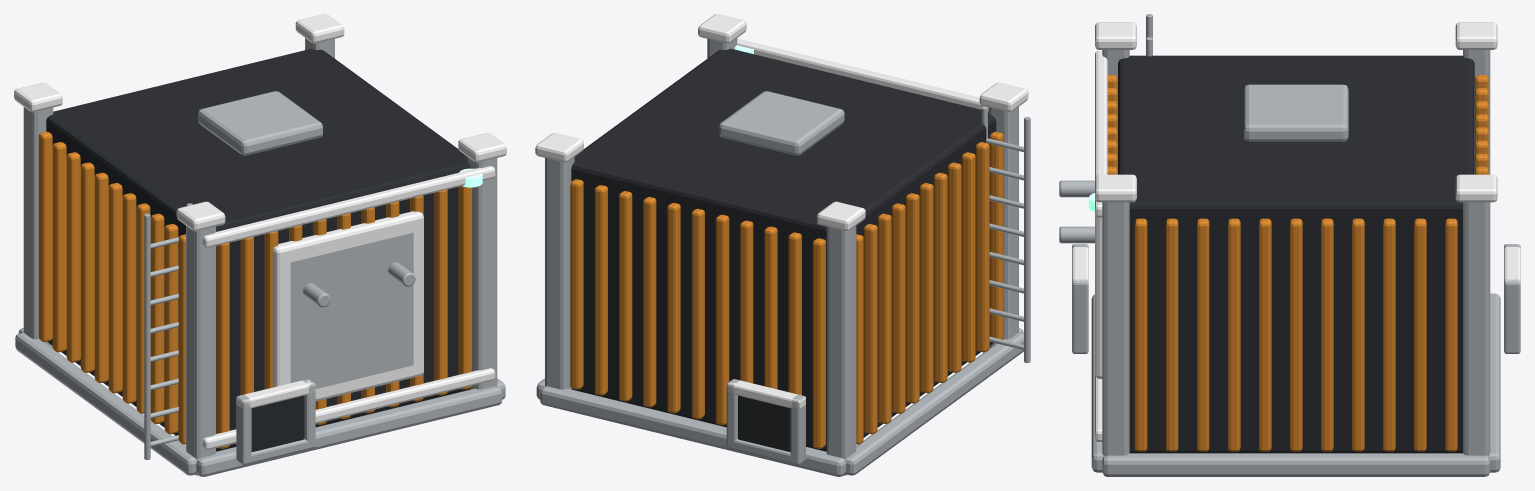
File: storage.glb
3 views of the same model, side by side, from view 1: azimuth 30°, elevation 25°; view 2: azimuth 150°, elevation 25°; view 3: azimuth 270°, elevation 25° (orthographic). The views are drawn at different scales.
Visible parts, largest first — view 1: Main_Body; view 2: Main_Body; view 3: Main_Body.
Part boxes in pixels (x1,y1,x2,y2): Main_Body: (14,14,506,476); Main_Body: (535,14,1030,476); Main_Body: (1059,14,1520,476).
Bounding box in the file's own units: 4.17 × 3.06 × 4.4.
